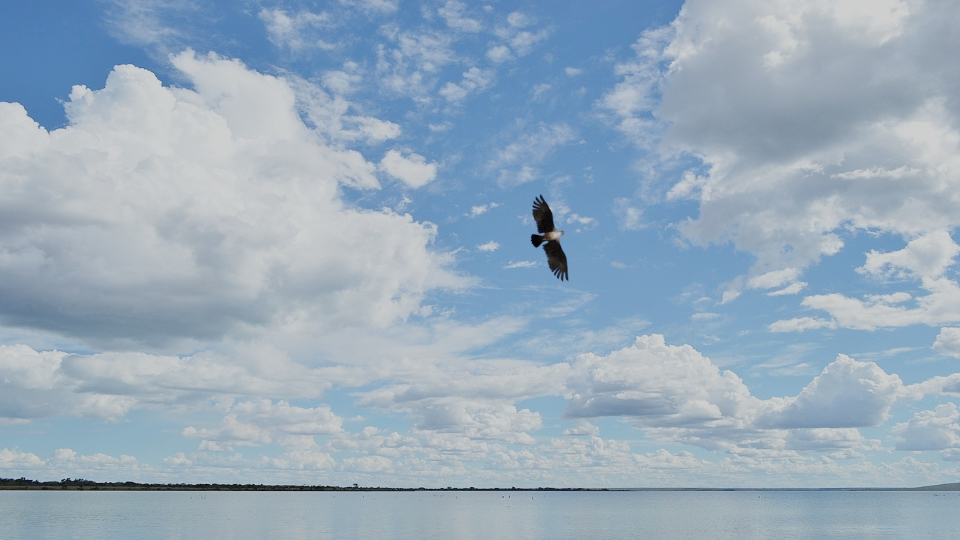bird: (526, 195, 580, 283)
